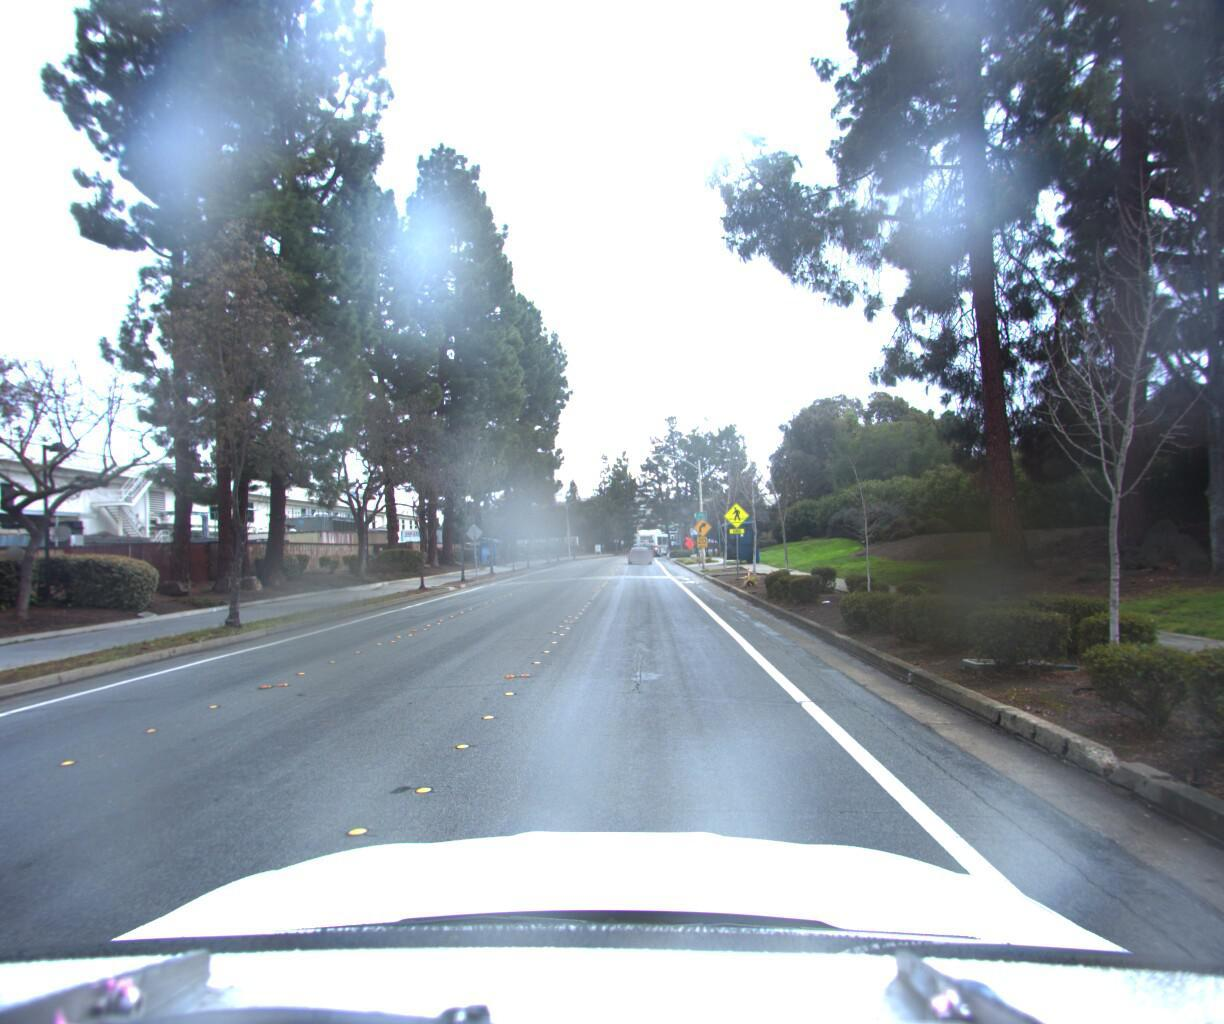car: (625, 546, 651, 569)
